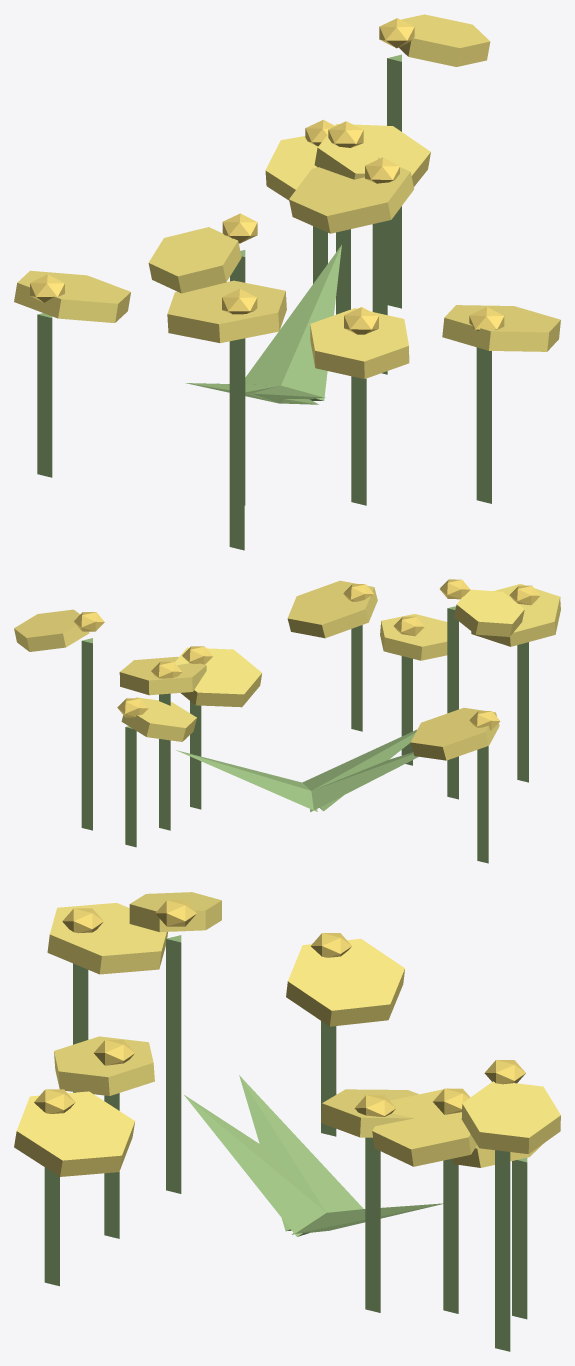
Rendered from flor_amarela_1.fbx.
3 views of the same model, one above another, from view 1: azimuth 30°, elevation 25°; view 2: azimuth 150°, elevation 25°; view 3: azimuth 270°, elevation 25° (orthographic). The views are drawn at different scales.
Parts seen in each view (by area): view 1: flor_amarela_1~Pétalas 2@petalyellow, flor_amarela_1~Folha 0@stem, flor_amarela_1~Pétalas 0@petalyellow, flor_amarela_1~Pétalas 3@petalyellow, flor_amarela_1~Pétalas 1@petalyellow, flor_amarela_1~Pétalas 6@petalyellow, flor_amarela_1~Pétalas 4@petalyellow, flor_amarela_1~Pétalas 5@petalyellow, flor_amarela_1~Pétalas 8@petalyellow, flor_amarela_1~Haste 0@stem, flor_amarela_1~Haste 4@stem, flor_amarela_1~Haste 8@stem (+16 smaller); view 2: flor_amarela_1~Pétalas 6@petalyellow, flor_amarela_1~Pétalas 2@petalyellow, flor_amarela_1~Pétalas 4@petalyellow, flor_amarela_1~Pétalas 1@petalyellow, flor_amarela_1~Haste 8@stem, flor_amarela_1~Pétalas 3@petalyellow, flor_amarela_1~Pétalas 5@petalyellow, flor_amarela_1~Pétalas 8@petalyellow, flor_amarela_1~Pétalas 0@petalyellow, flor_amarela_1~Pétalas 7@petalyellow, flor_amarela_1~Folha 0@stem, flor_amarela_1~Folha 1@stem (+18 smaller); view 3: flor_amarela_1~Pétalas 4@petalyellow, flor_amarela_1~Pétalas 6@petalyellow, flor_amarela_1~Pétalas 0@petalyellow, flor_amarela_1~Pétalas 8@petalyellow, flor_amarela_1~Pétalas 5@petalyellow, flor_amarela_1~Folha 2@stem, flor_amarela_1~Folha 1@stem, flor_amarela_1~Pétalas 3@petalyellow, flor_amarela_1~Haste 1@stem, flor_amarela_1~Haste 8@stem, flor_amarela_1~Haste 2@stem, flor_amarela_1~Haste 7@stem (+17 smaller).
Boxes of the visible parts, x1,y1,x2,y2 form: flor_amarela_1~Pétalas 2@petalyellow: (289, 157, 413, 233); flor_amarela_1~Folha 0@stem: (245, 245, 341, 400); flor_amarela_1~Pétalas 0@petalyellow: (167, 280, 286, 343); flor_amarela_1~Pétalas 3@petalyellow: (310, 308, 409, 378); flor_amarela_1~Pétalas 1@petalyellow: (148, 227, 241, 293); flor_amarela_1~Pétalas 6@petalyellow: (442, 305, 560, 351); flor_amarela_1~Pétalas 4@petalyellow: (14, 270, 130, 322); flor_amarela_1~Pétalas 5@petalyellow: (314, 124, 430, 186); flor_amarela_1~Pétalas 8@petalyellow: (399, 14, 490, 66); flor_amarela_1~Haste 0@stem: (229, 338, 244, 550); flor_amarela_1~Haste 4@stem: (37, 313, 52, 477); flor_amarela_1~Haste 8@stem: (387, 54, 401, 308); flor_amarela_1~Pétalas 6@petalyellow: (287, 580, 377, 638); flor_amarela_1~Pétalas 2@petalyellow: (174, 647, 261, 707); flor_amarela_1~Pétalas 4@petalyellow: (410, 707, 499, 760); flor_amarela_1~Pétalas 1@petalyellow: (454, 589, 524, 636); flor_amarela_1~Haste 8@stem: (81, 638, 92, 830); flor_amarela_1~Pétalas 3@petalyellow: (380, 614, 447, 660); flor_amarela_1~Pétalas 5@petalyellow: (119, 656, 206, 695); flor_amarela_1~Pétalas 8@petalyellow: (14, 609, 89, 651); flor_amarela_1~Pétalas 0@petalyellow: (471, 584, 560, 646); flor_amarela_1~Pétalas 7@petalyellow: (121, 697, 196, 741); flor_amarela_1~Folha 0@stem: (176, 750, 317, 811); flor_amarela_1~Folha 1@stem: (302, 729, 416, 811); flor_amarela_1~Pétalas 4@petalyellow: (286, 938, 404, 1026); flor_amarela_1~Pétalas 6@petalyellow: (14, 1091, 135, 1176); flor_amarela_1~Pétalas 0@petalyellow: (47, 903, 167, 974); flor_amarela_1~Pétalas 8@petalyellow: (461, 1081, 560, 1153); flor_amarela_1~Pétalas 5@petalyellow: (372, 1088, 476, 1166); flor_amarela_1~Folha 2@stem: (239, 1075, 363, 1231); flor_amarela_1~Folha 1@stem: (184, 1095, 325, 1236); flor_amarela_1~Pétalas 3@petalyellow: (54, 1036, 154, 1095); flor_amarela_1~Haste 1@stem: (166, 935, 181, 1193); flor_amarela_1~Haste 8@stem: (495, 1150, 510, 1351); flor_amarela_1~Haste 2@stem: (365, 1137, 380, 1312); flor_amarela_1~Haste 7@stem: (512, 1158, 527, 1319).
Size of the model in its own units: 0.683 by 0.3417 by 0.5891.
